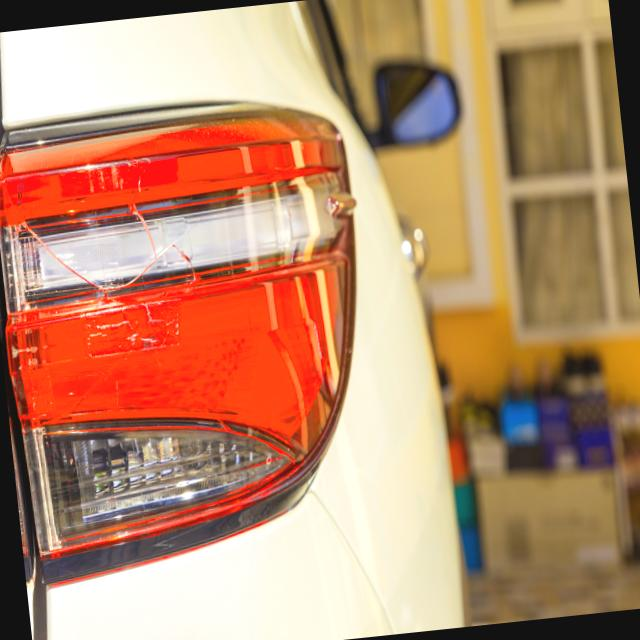Phare abime: (0, 123, 236, 467)
